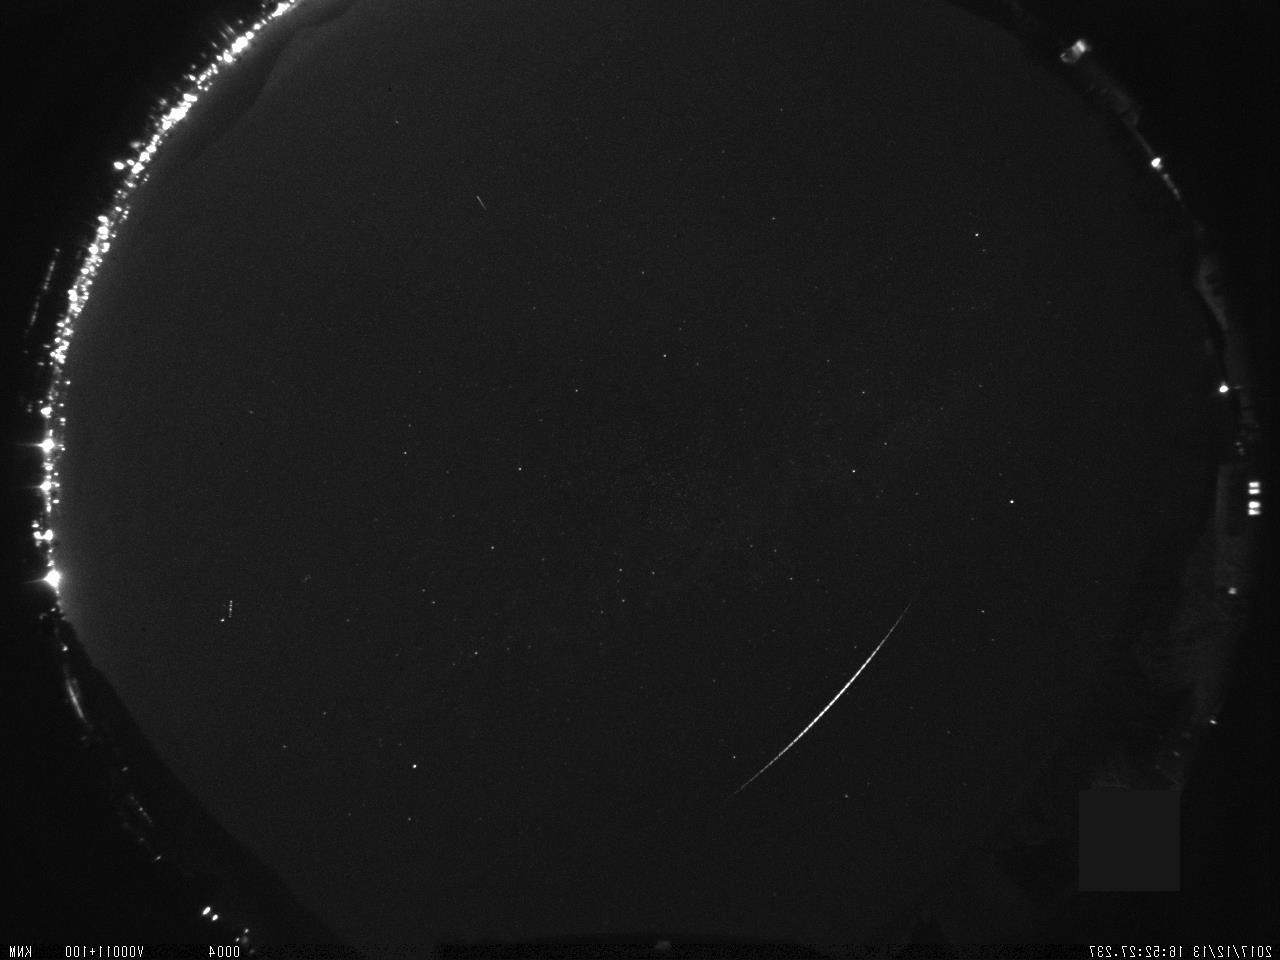meteor: (463, 190, 501, 219)
